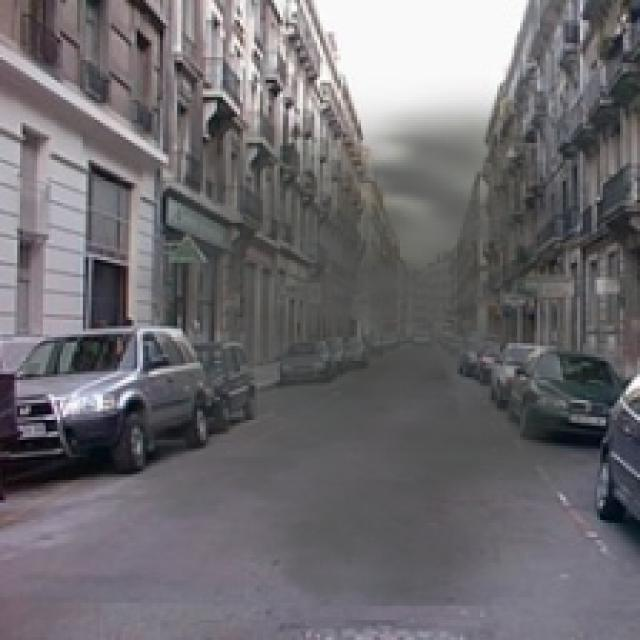smoke: (60, 77, 626, 606)
